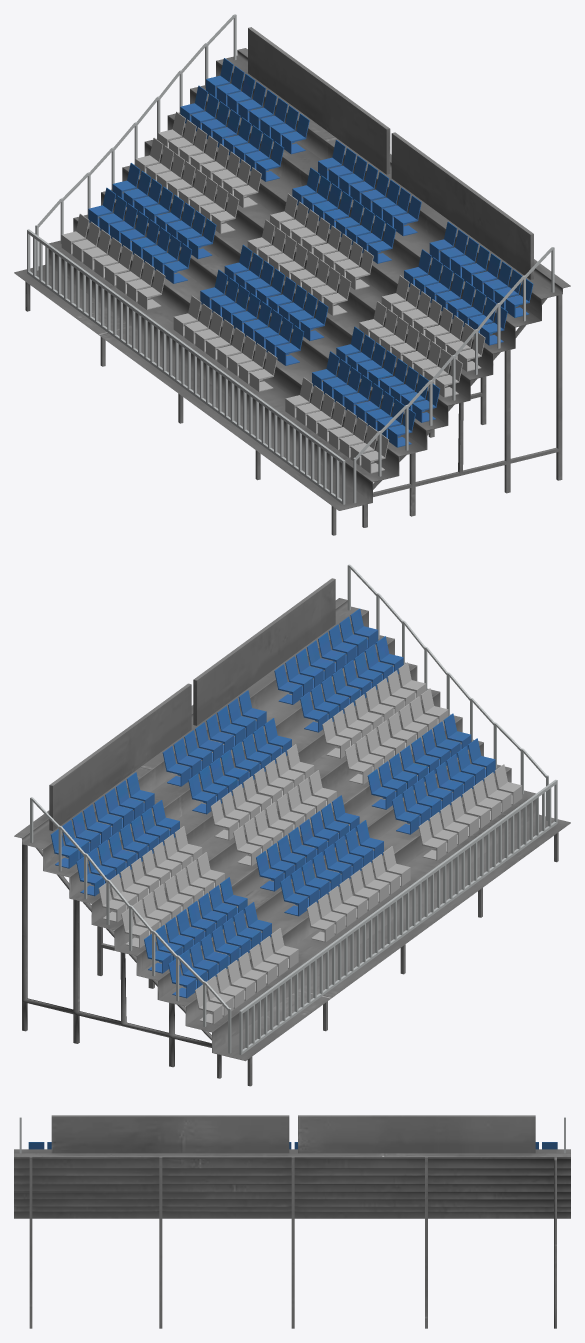
File: stand.glb
3 renders of one model, top to bottom at view 1: azimuth 30°, elevation 25°; view 2: azimuth 150°, elevation 25°; view 3: azimuth 270°, elevation 25°, orthographic. The views are drawn at different scales.
Visible parts, largest first — view 1: polySurface39, polySurface172, polySurface15, polySurface24, polySurface167, polySurface180, polySurface74; view 2: polySurface39, polySurface172, polySurface24, polySurface15, polySurface36, polySurface74, polySurface180; view 3: polySurface39, polySurface24, polySurface15, polySurface139, polySurface160, polySurface167, polySurface36, polySurface105.
Part boxes in pixels (x1,y1,x2,y2): polySurface39: [14, 48, 570, 510]; polySurface172: [27, 229, 345, 504]; polySurface15: [248, 27, 390, 174]; polySurface24: [391, 132, 533, 279]; polySurface167: [331, 294, 562, 535]; polySurface180: [353, 247, 554, 503]; polySurface74: [35, 14, 236, 270]; polySurface39: [14, 598, 570, 1061]; polySurface172: [239, 779, 557, 1054]; polySurface24: [193, 578, 335, 725]; polySurface15: [49, 683, 191, 830]; polySurface36: [22, 844, 252, 1086]; polySurface74: [30, 797, 231, 1053]; polySurface180: [347, 564, 548, 820]; polySurface39: [14, 1149, 570, 1218]; polySurface24: [51, 1115, 289, 1153]; polySurface15: [298, 1115, 535, 1153]; polySurface139: [291, 1157, 294, 1328]; polySurface160: [159, 1157, 162, 1328]; polySurface167: [29, 1157, 32, 1328]; polySurface36: [554, 1157, 556, 1328]; polySurface105: [425, 1157, 427, 1328].
Size of the model in its own units: 28.3 by 28.01 by 68.73.
Materials: 5 (3 with a texture image).
